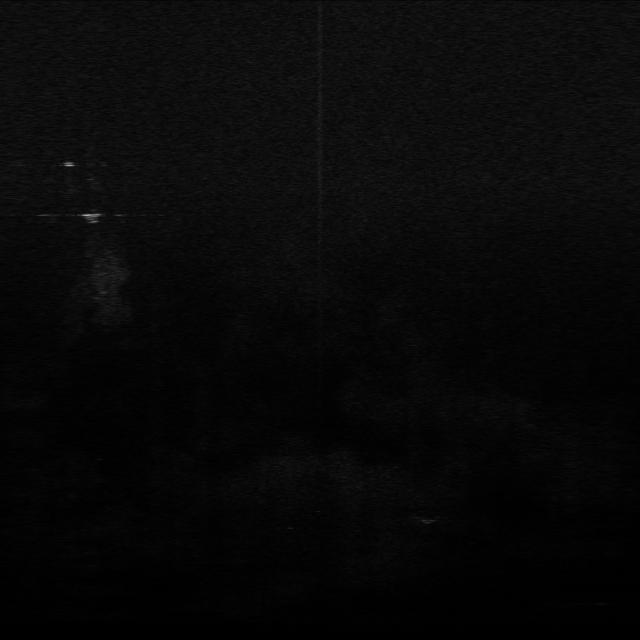rov: (78, 209, 108, 223)
